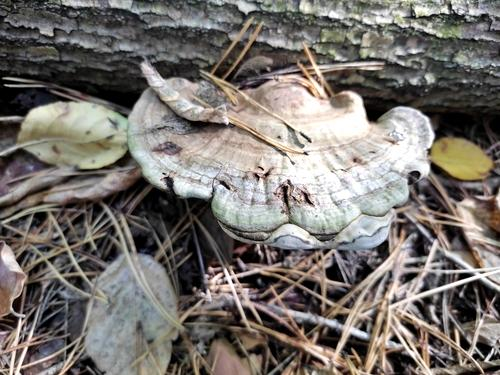Ganoderma - Fruit Body: (127, 75, 434, 252)
